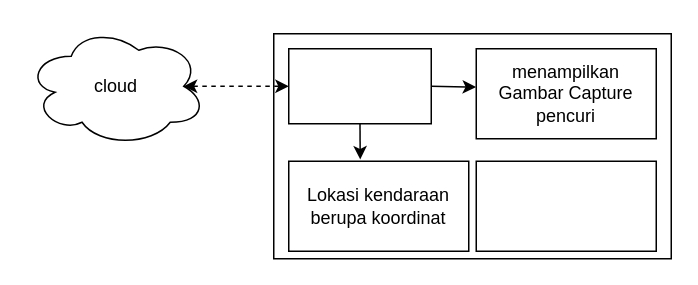
This 698x285 diagram has some shape labels left out. The shapes that lost their labels are listed below. From the top down, each one's centre as x and y in pixels, then its label:
At (359,85): "Sql permintaan data ke coud".
At (565,205): "status kendaraan".
